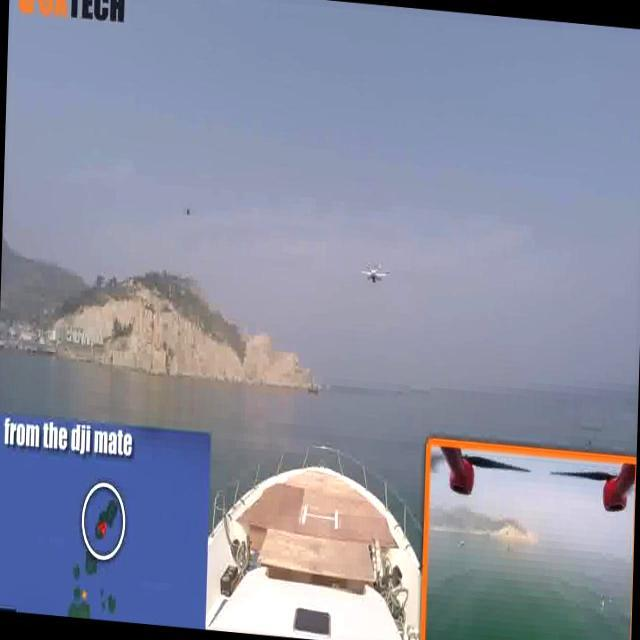drone: (359, 257, 390, 287), (180, 199, 200, 225)
